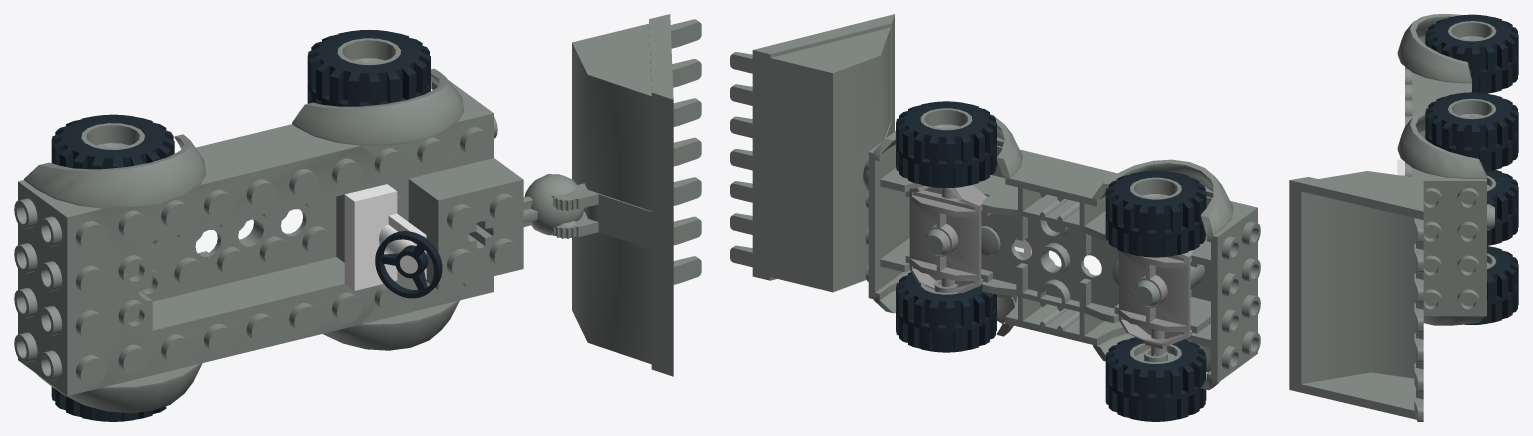
File: bulldozerTest.obj
3 views of the same model, side by side, from view 1: azimuth 30°, elevation 25°; view 2: azimuth 150°, elevation 25°; view 3: azimuth 270°, elevation 25° (orthographic). The views are drawn at different scales.
Parts seen in each view (by area): view 1: Piece000, Piece001, Piece003, Piece009, Piece002, Piece008, Piece005, Piece004; view 2: Piece000, Piece001, Piece009, Piece008, Piece005, Piece007; view 3: Piece001, Piece000, Piece009, Piece008, Piece007, Piece005.
Part boxes in pixels (x1,y1,x2,y2): Piece000: [14, 68, 497, 413]; Piece001: [551, 14, 701, 376]; Piece003: [408, 158, 584, 289]; Piece009: [307, 29, 430, 106]; Piece002: [344, 184, 442, 298]; Piece008: [51, 114, 174, 169]; Piece005: [51, 387, 170, 421]; Piece004: [336, 179, 408, 270]; Piece000: [865, 116, 1260, 390]; Piece001: [730, 14, 894, 292]; Piece009: [896, 101, 996, 188]; Piece008: [1105, 170, 1206, 257]; Piece005: [1105, 337, 1206, 421]; Piece007: [896, 272, 996, 352]; Piece001: [1289, 171, 1423, 421]; Piece000: [1397, 14, 1494, 325]; Piece009: [1425, 92, 1518, 171]; Piece008: [1425, 14, 1518, 93]; Piece007: [1465, 246, 1518, 324]; Piece005: [1485, 170, 1518, 245].
Size of the model in its own units: 303 by 128 by 123.
